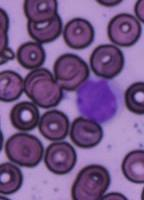L: (75, 76, 125, 125)
